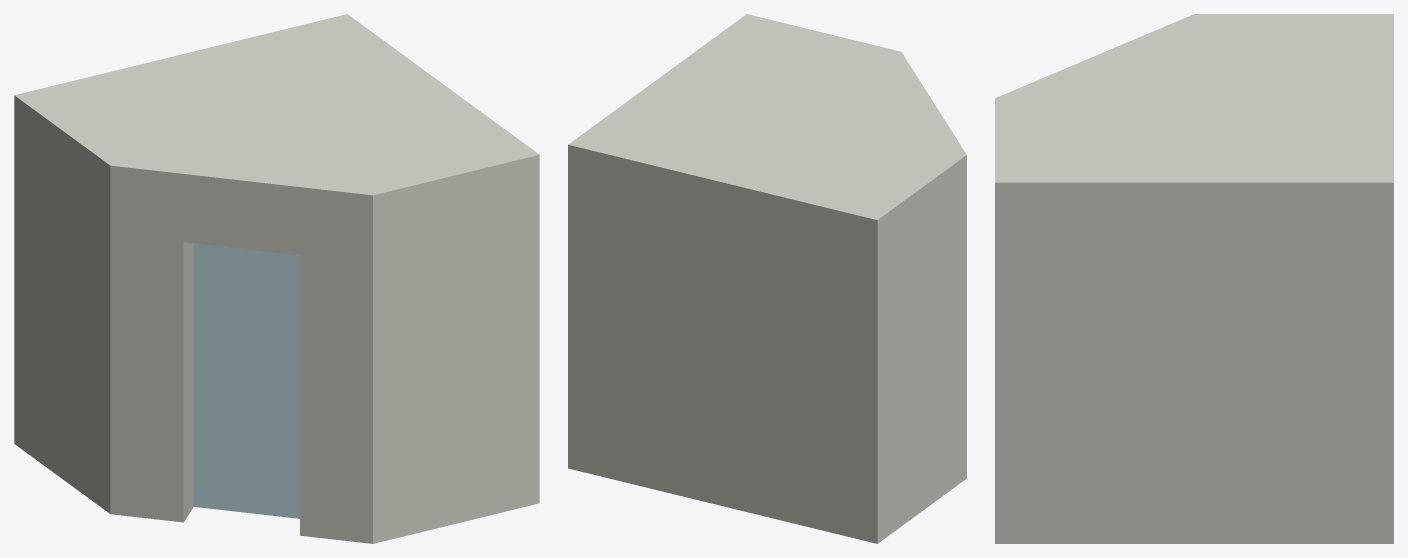
File: Building Story 16.fbx
3 views of the same model, side by side, from view 1: azimuth 30°, elevation 25°; view 2: azimuth 150°, elevation 25°; view 3: azimuth 270°, elevation 25° (orthographic). The views are drawn at different scales.
Parts seen in each view (by area): view 1: Building Story 16; view 2: Building Story 16; view 3: Building Story 16.
Part boxes in pixels (x1,y1,x2,y2): Building Story 16: [14, 14, 539, 543]; Building Story 16: [568, 14, 966, 543]; Building Story 16: [995, 14, 1393, 543].
Bounding box in the file's own units: 1 × 1 × 1.
